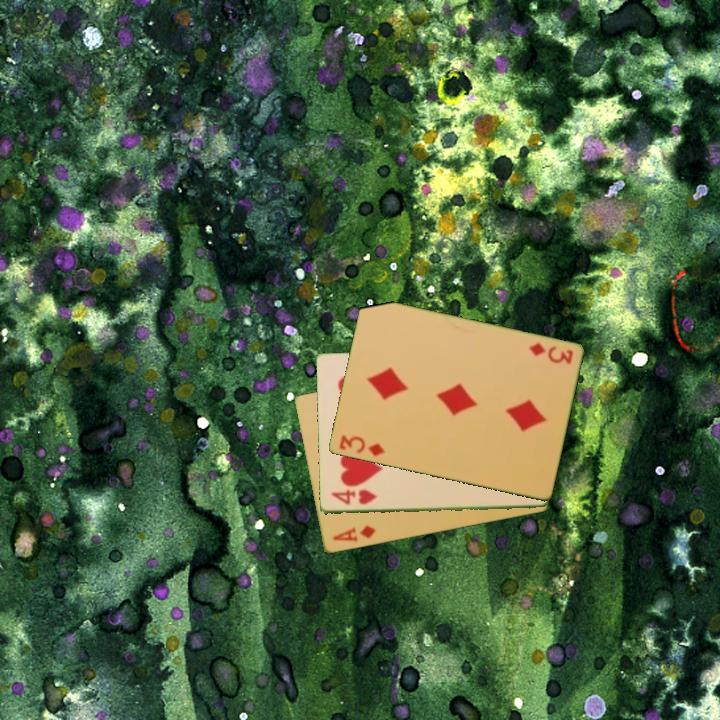3d: (525, 339, 576, 368), (335, 432, 388, 459)
4h: (327, 487, 379, 508)
Ad: (329, 522, 379, 545)
